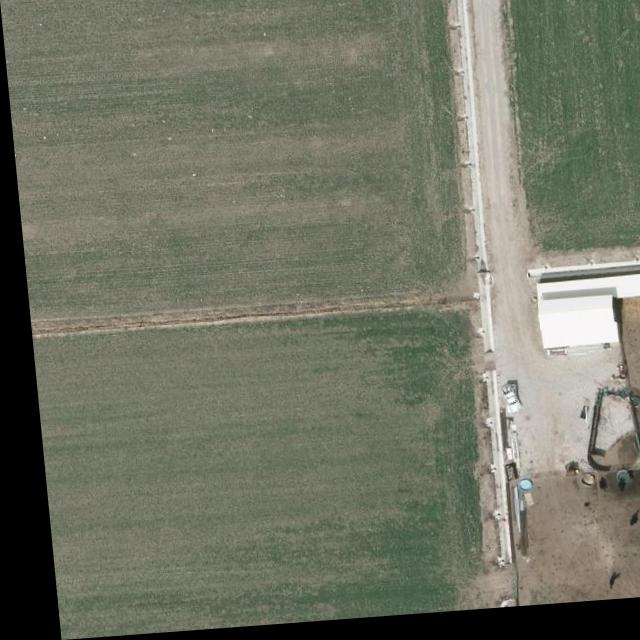vehicle: (492, 389, 514, 422)
